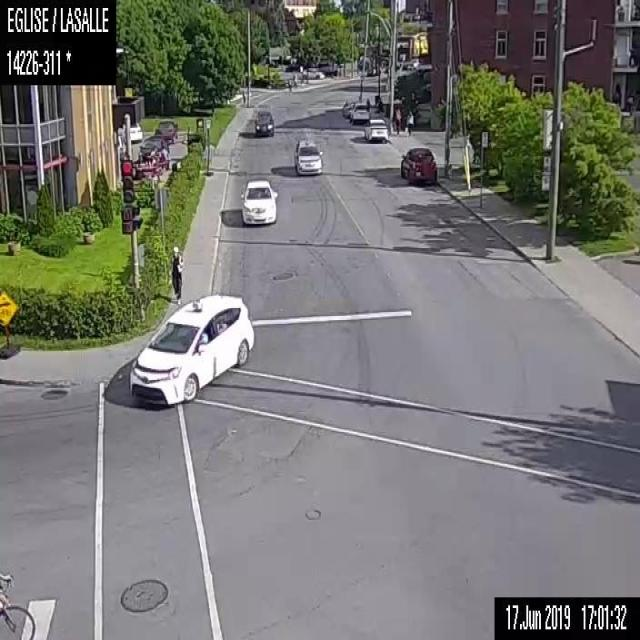cyclist: (0, 570, 34, 638)
pedestrian: (171, 244, 184, 305), (392, 105, 402, 135), (403, 108, 413, 137)
vehicle: (128, 292, 256, 405), (238, 178, 278, 225), (399, 145, 437, 184), (291, 136, 323, 175), (137, 133, 170, 164), (152, 118, 179, 144), (252, 107, 274, 136), (362, 117, 385, 141), (117, 121, 142, 141), (350, 102, 369, 122), (301, 66, 325, 81), (340, 96, 357, 116)
